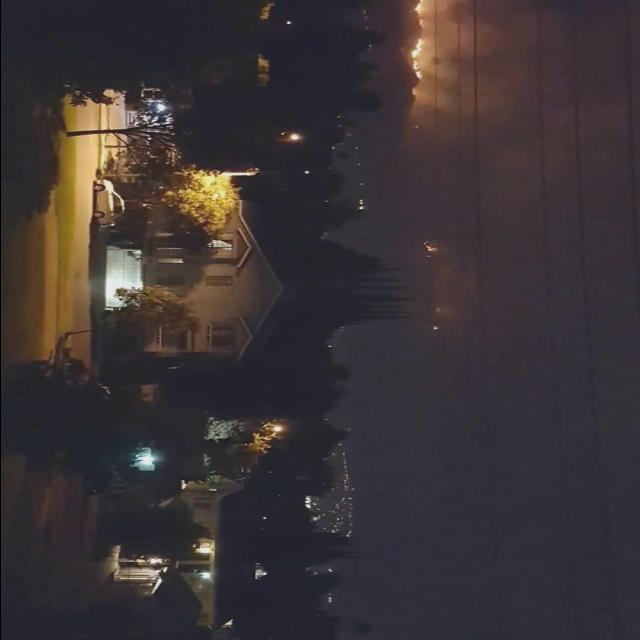Fire: (400, 3, 622, 185), (432, 246, 484, 330), (410, 37, 424, 79), (410, 3, 428, 27), (422, 240, 438, 252)
